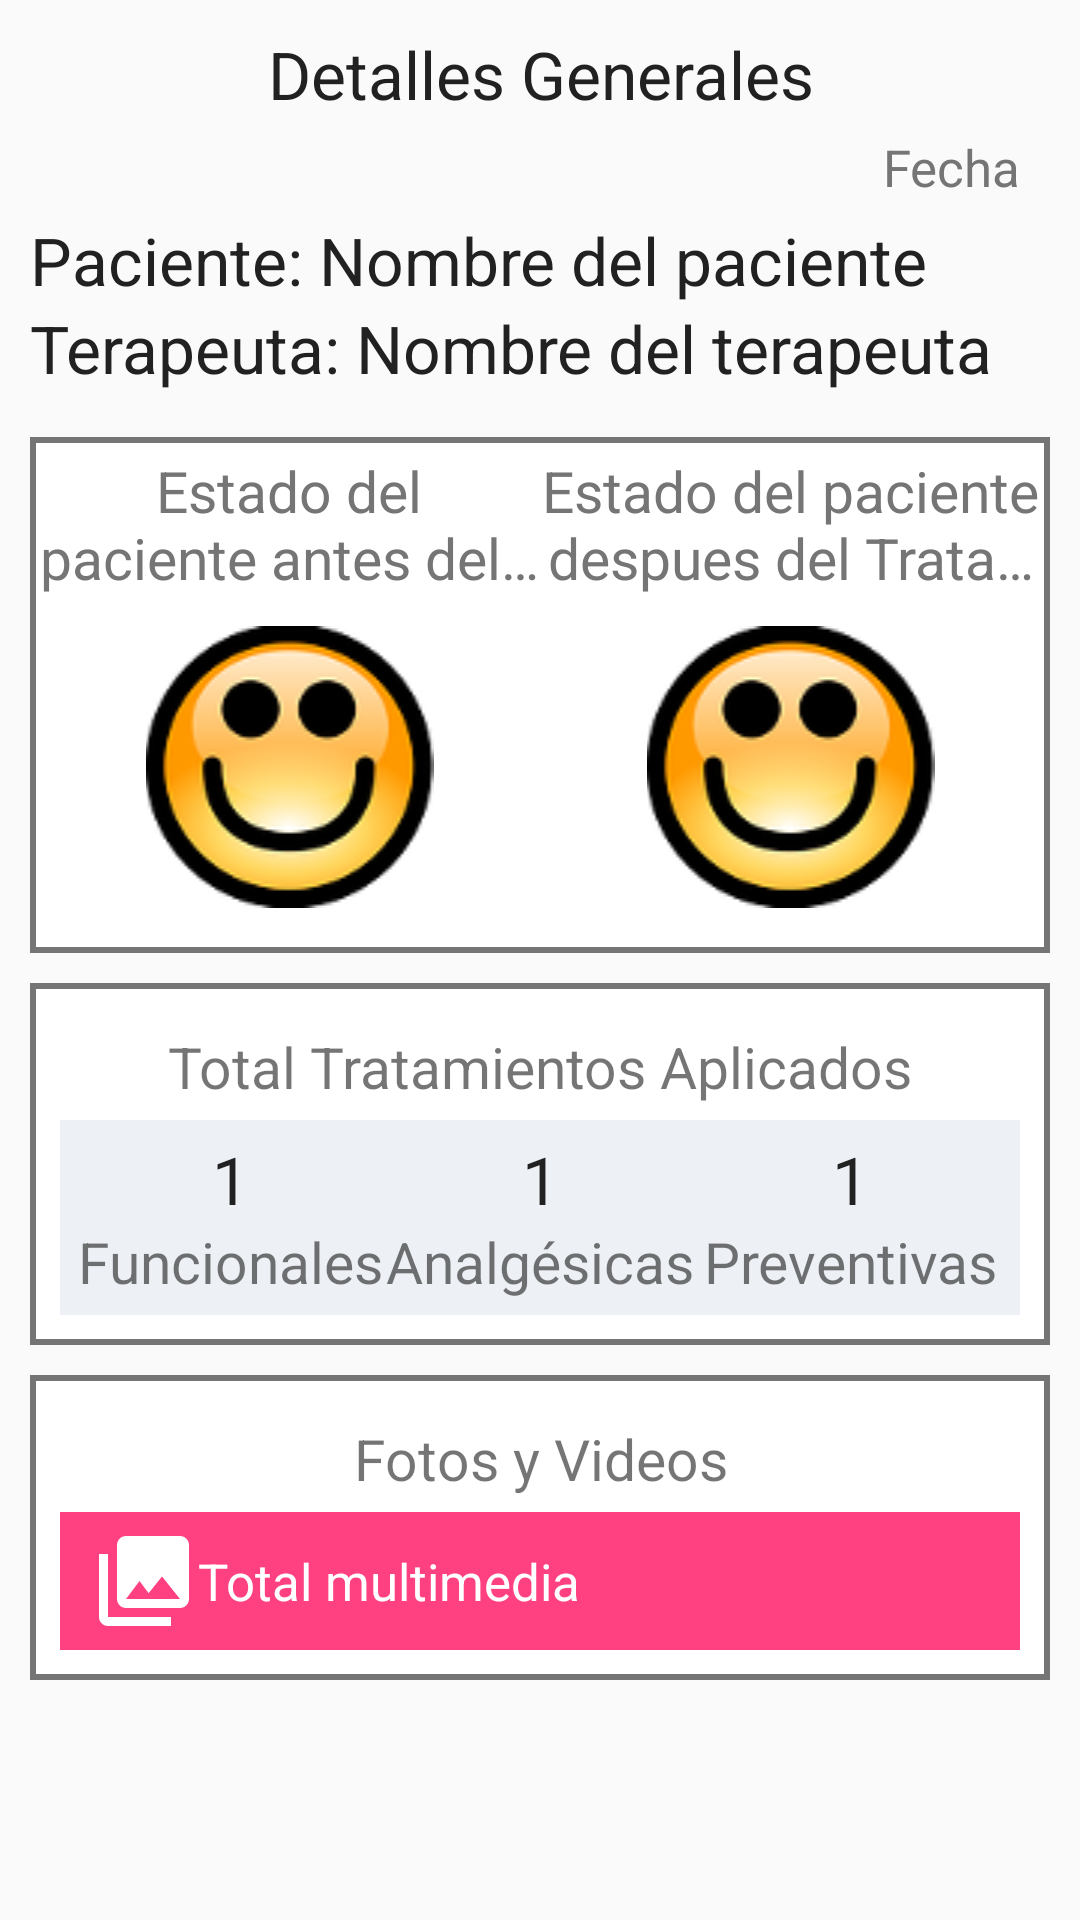

Where icons sit on this 1080 × 1920 app screen, as rect(x1, y1, x2, y2):
cara: rect(146, 626, 434, 908), rect(647, 626, 935, 908)
